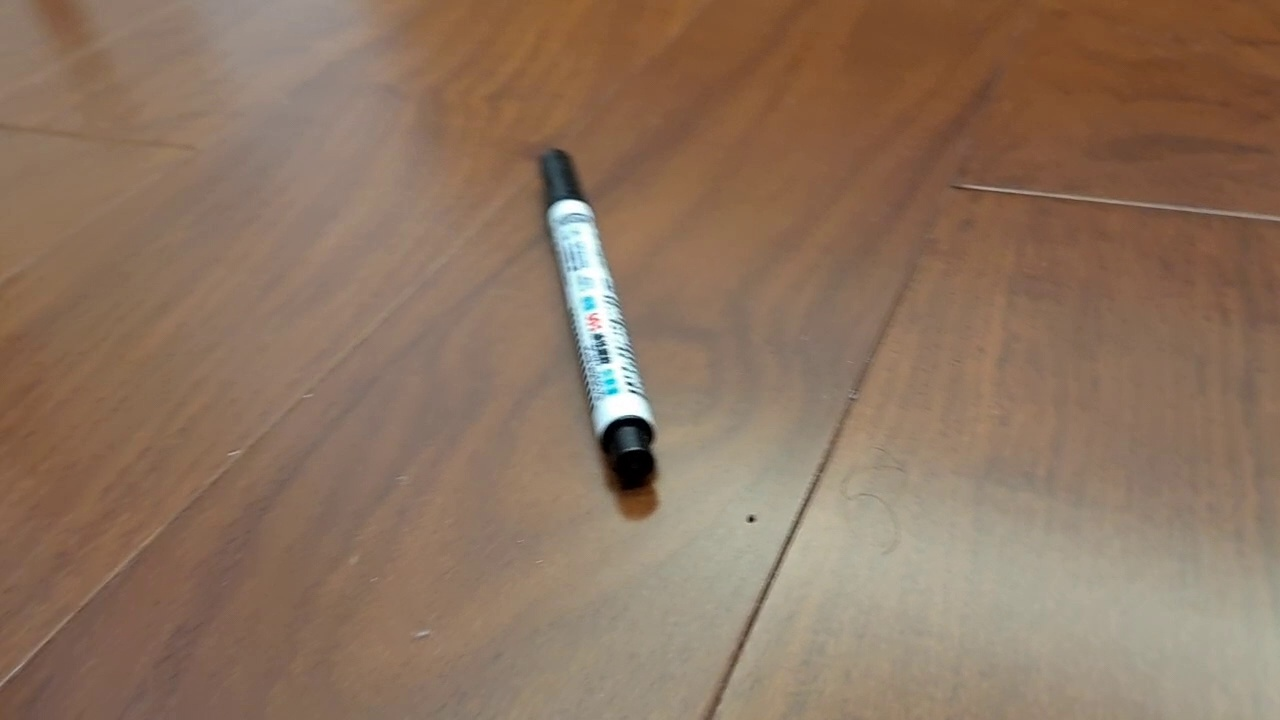pen: (537, 146, 659, 492)
